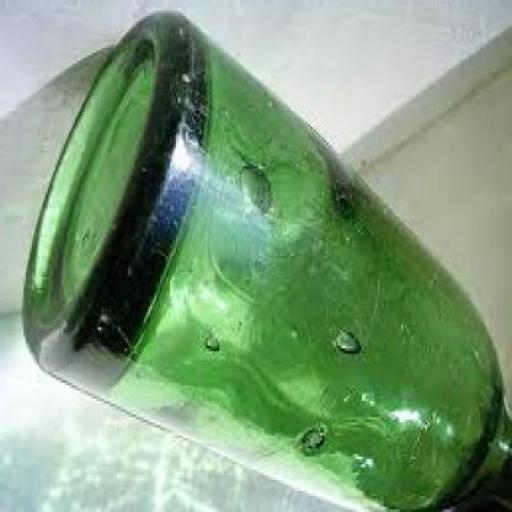glass: (21, 12, 511, 511)
